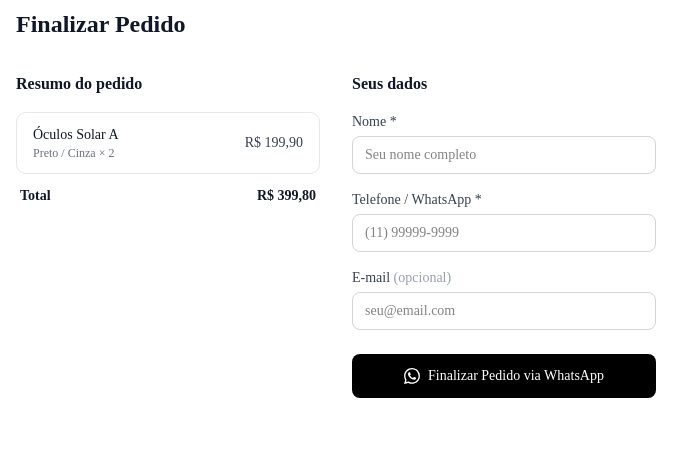
Test case: CheckoutPage — with items › shows validation error when name is blank and form is submitted
Click the button "Finalizar Pedido via WhatsApp". click: x=504, y=376
box: x1=352 y1=354 x2=656 y2=398
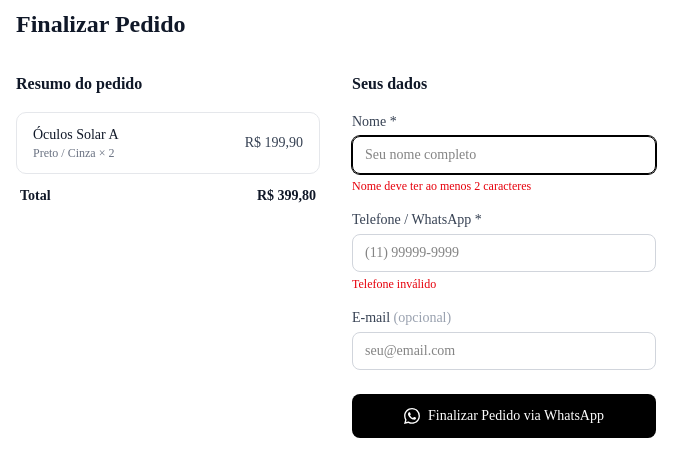
Result: the text "Nome deve ter ao menos 2 caracteres" is shown at x1=352 y1=179 x2=531 y2=193
